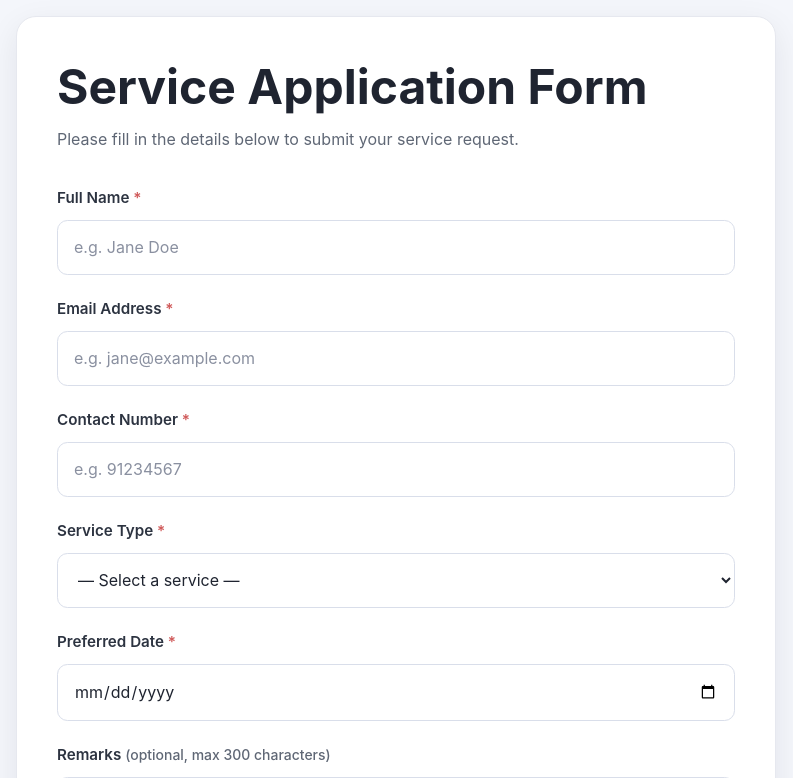
Test: App › shows a blur validation error and clears it after the field is corrected
Click the field labelled "Full Name *".
click(396, 247)  # box [57, 220, 735, 275]
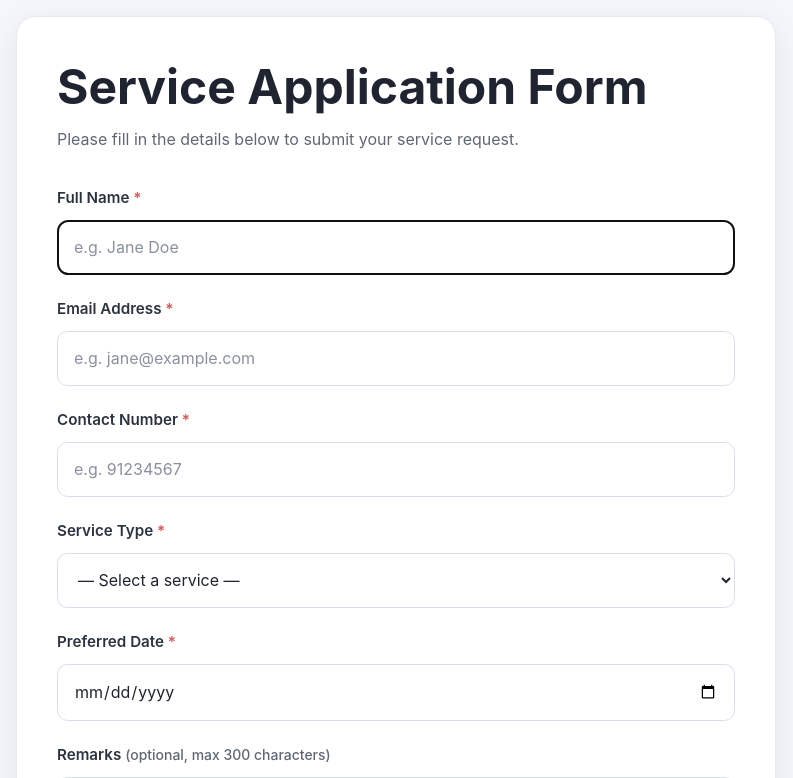
Press Tab
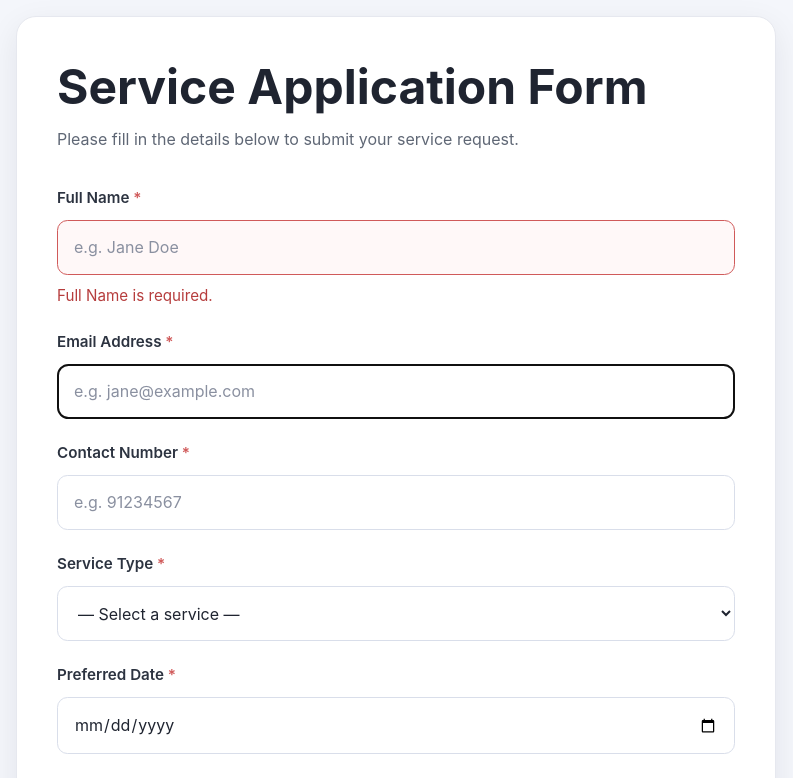
Expected: the text "Full Name is required." is shown, [57, 286, 213, 305]
Type "Jane Doe" into the field labelled "Full Name *".
click(396, 247); type("Jane Doe")  # box [57, 220, 735, 275]
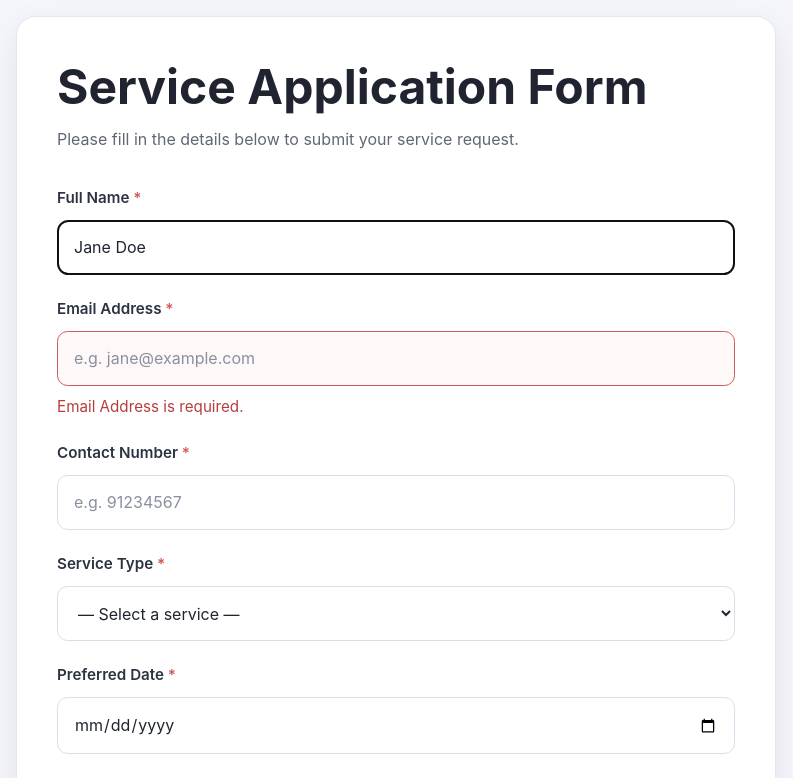
Expected: the text "Full Name is required." is gone
